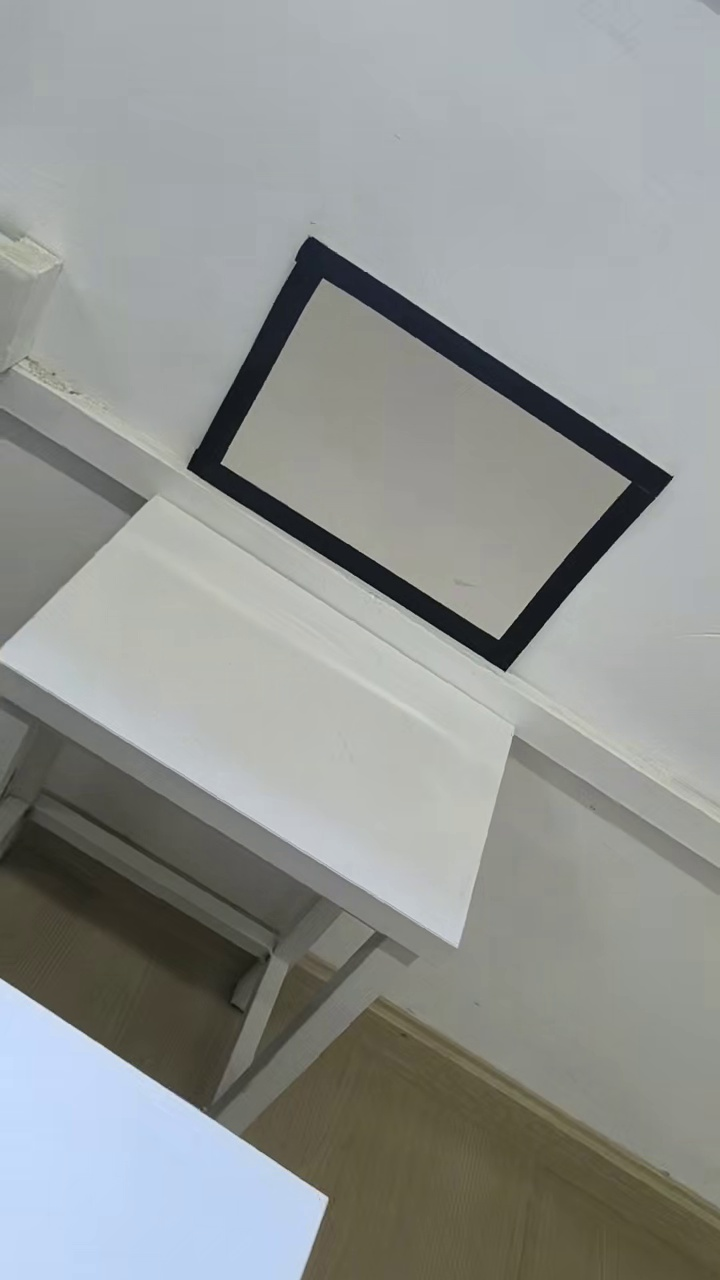board: (187, 240, 674, 670)
